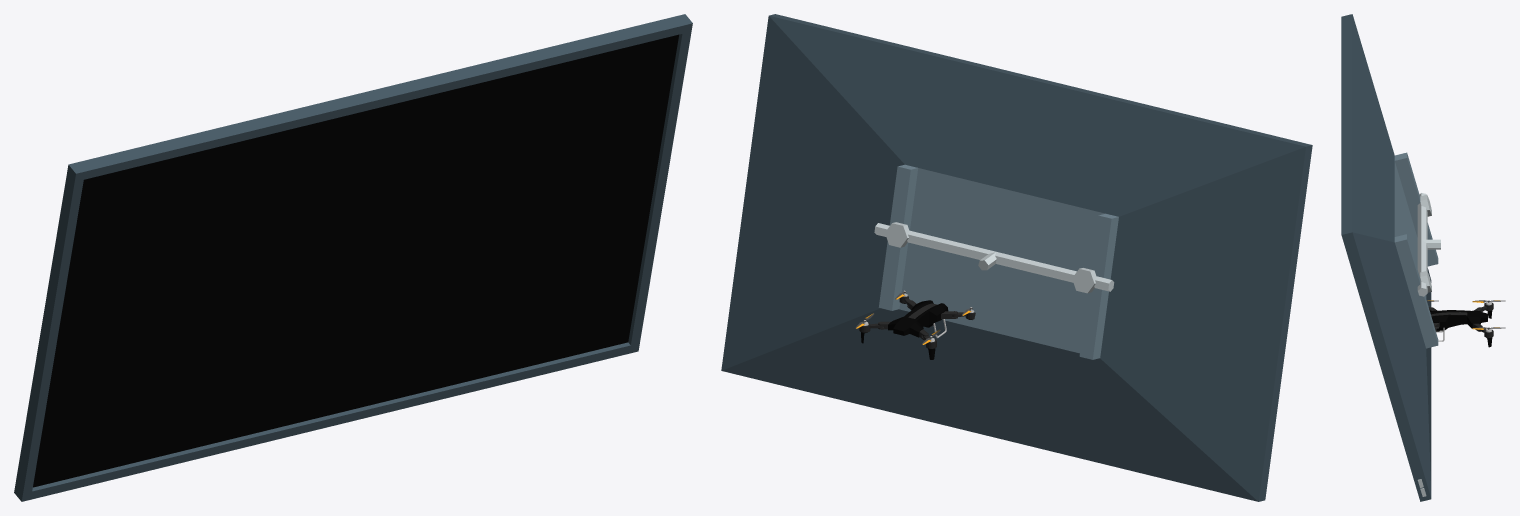
The model's file is tvanddrone.glb.
3 views of the same model, side by side, from view 1: azimuth 30°, elevation 25°; view 2: azimuth 150°, elevation 25°; view 3: azimuth 270°, elevation 25° (orthographic). The views are drawn at different scales.
Parts seen in each view (by area): view 1: tv; view 2: tv, drone; view 3: tv, drone.
Part boxes in pixels (box(x1,y1,x2,y2)): tv: box(14, 14, 692, 501); tv: box(721, 14, 1312, 501); drone: box(859, 290, 975, 359); tv: box(1341, 14, 1440, 501); drone: box(1428, 300, 1493, 347).
Bounding box in the file's own units: 4.06 × 2.33 × 1.29.
5 materials, 1 textured.
